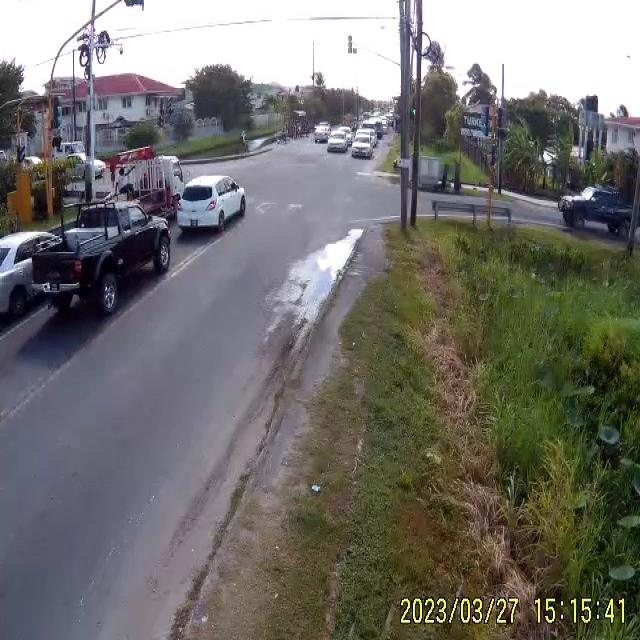car: (28, 199, 174, 319), (177, 175, 244, 235), (562, 188, 632, 234), (326, 129, 351, 155), (352, 135, 375, 159), (312, 122, 330, 144)
truck: (109, 152, 185, 246)
